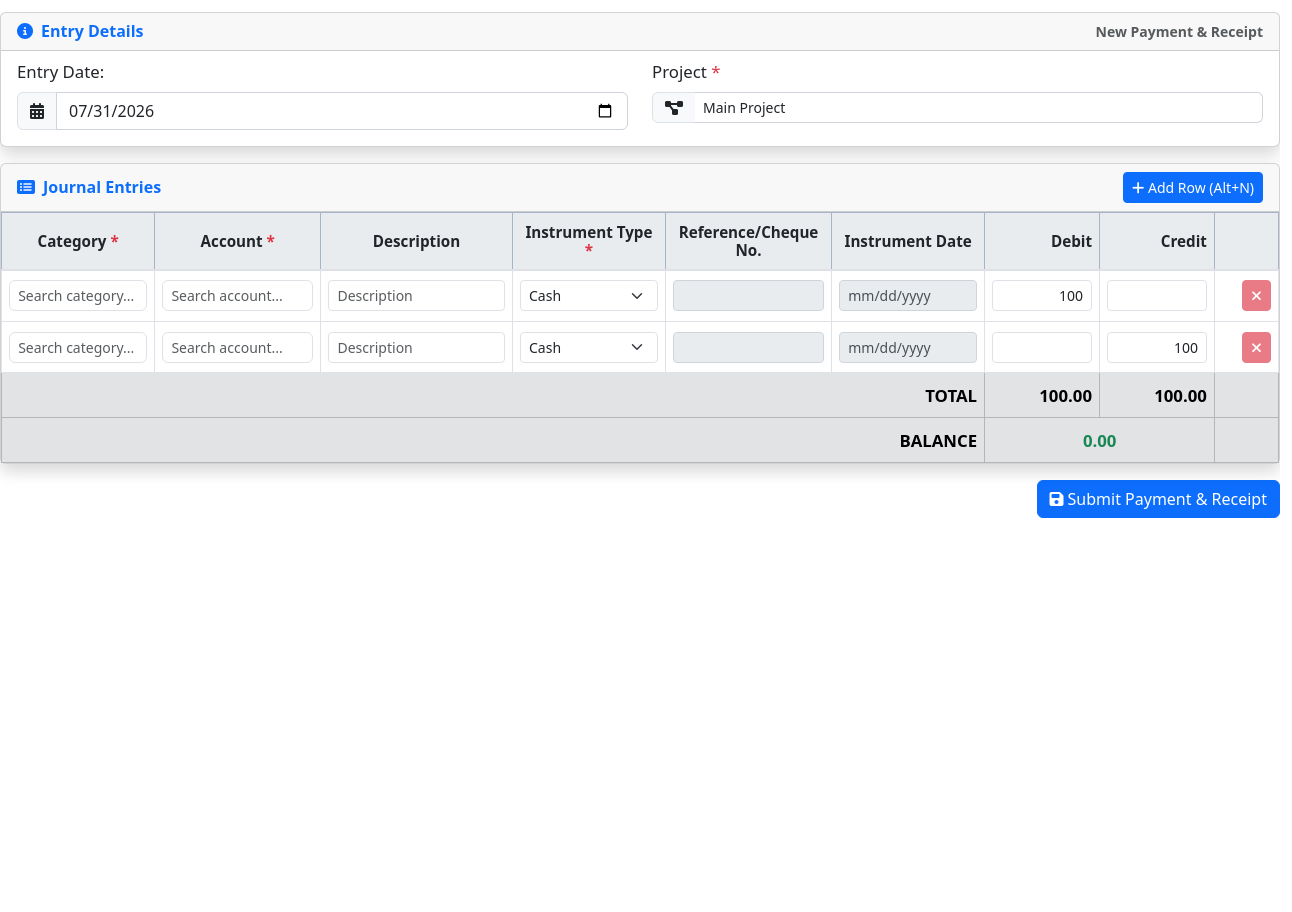
Test: PaymentReceiptForm › keeps an ordinary submission pending and offers no printing
Click the button "Submit Payment & Receipt" at (1158, 499), box [1036, 480, 1280, 518]
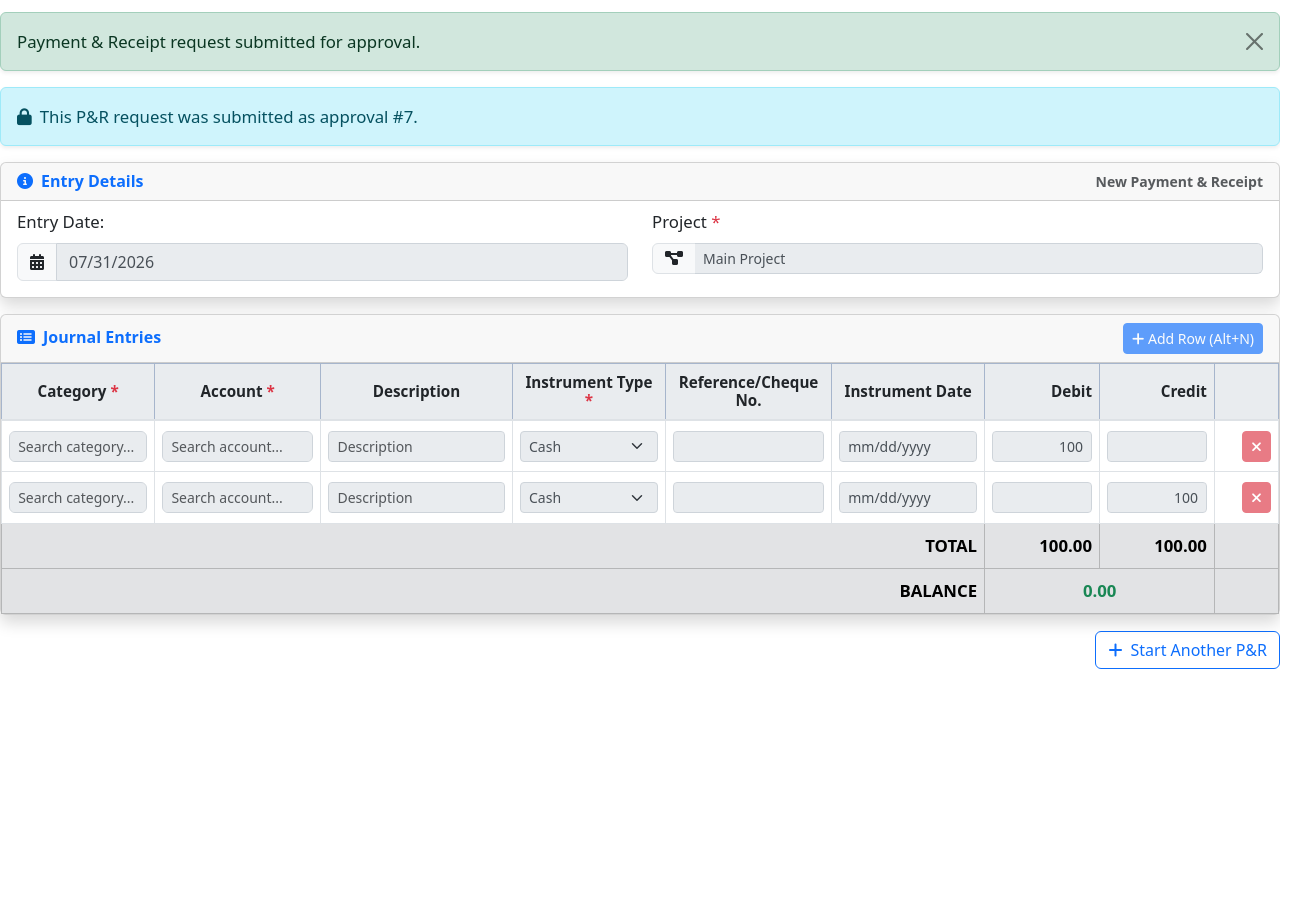
Expected: the text "This P&R request was submitted as approval #7." is shown, [0, 87, 1280, 146]
Expected: the number field named "Entry 1 debit" is disabled, [992, 431, 1092, 462]
